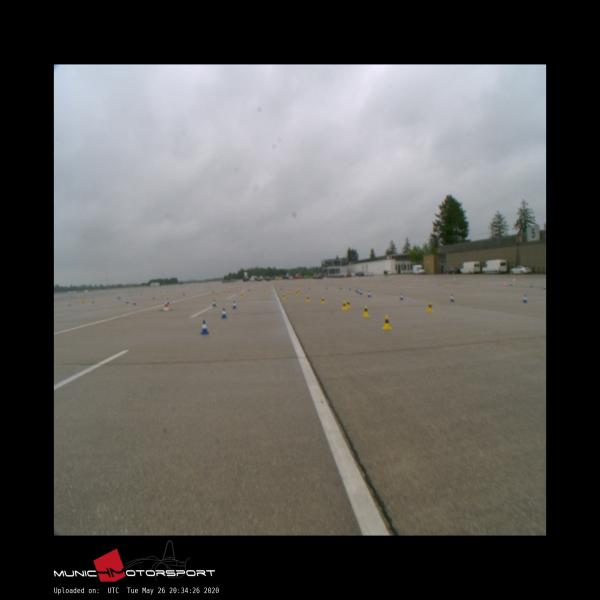blue_cone: (200, 319, 209, 334), (219, 308, 226, 318), (522, 294, 528, 302), (232, 301, 237, 309), (450, 294, 454, 301), (212, 299, 216, 306), (367, 291, 371, 297), (400, 293, 403, 300), (360, 290, 362, 294)
yellow_cone: (382, 315, 390, 329), (362, 304, 370, 316), (427, 302, 433, 312), (342, 300, 347, 310), (346, 299, 351, 308), (321, 296, 325, 304), (306, 295, 310, 302), (282, 293, 286, 299), (240, 292, 244, 298)
